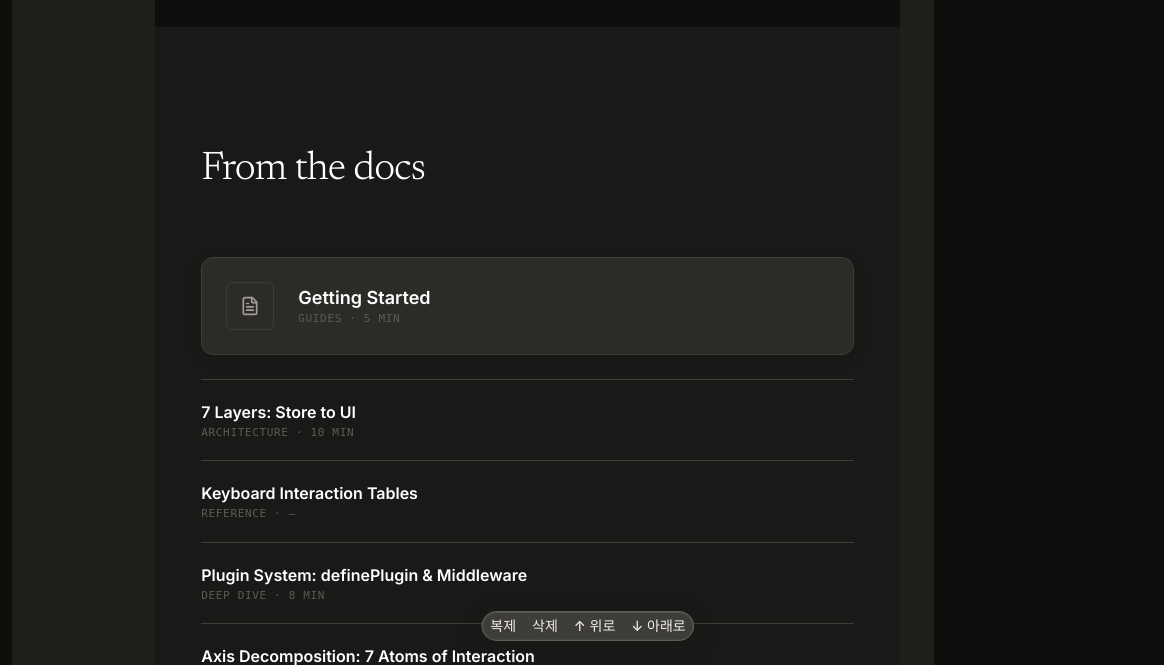
Test: CMS collection: crud + clipboard + history › Mod+Z undoes a delete
(page scrolled)
Click the element showing "Getting Started Guides · 5 min".
click(527, 306)  # box [201,257,854,355]
(page scrolled)
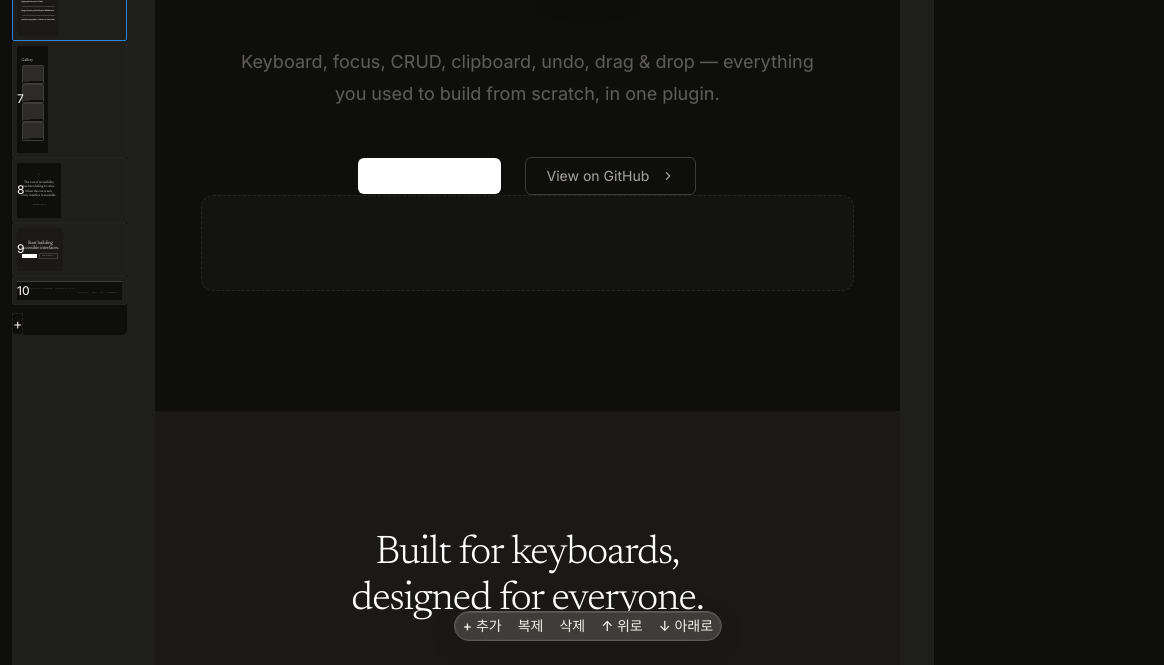
Press Delete
(page scrolled)
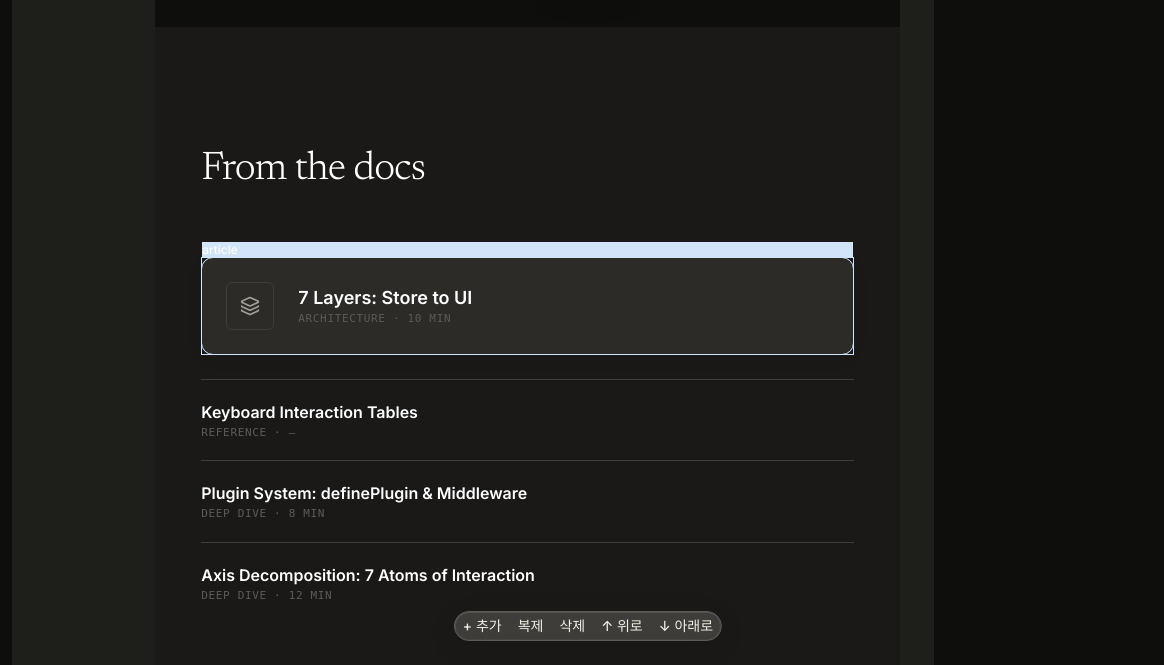
Type keys "{Control>}z{/Control}"
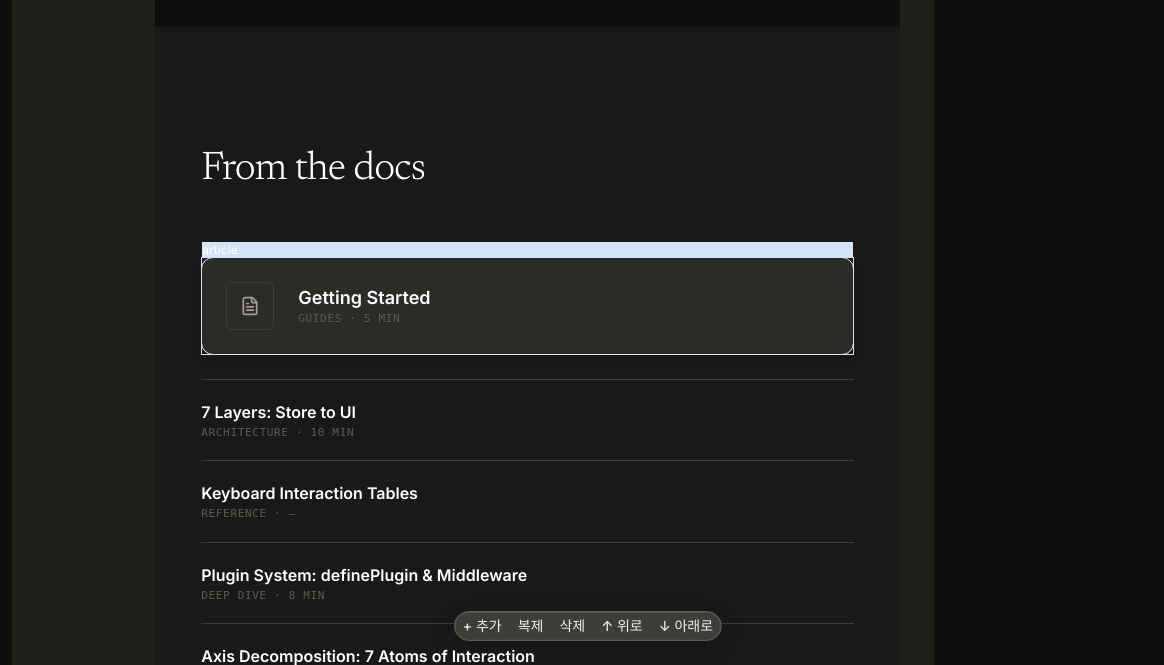
Expected: the element showing "Getting Started Guides · 5 min" is shown, [201,257,854,355]
